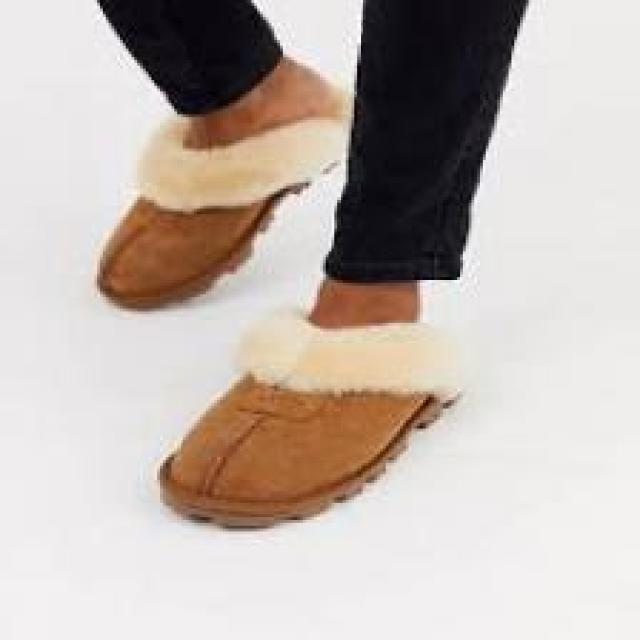shoe: (161, 310, 463, 528), (96, 116, 347, 309)
